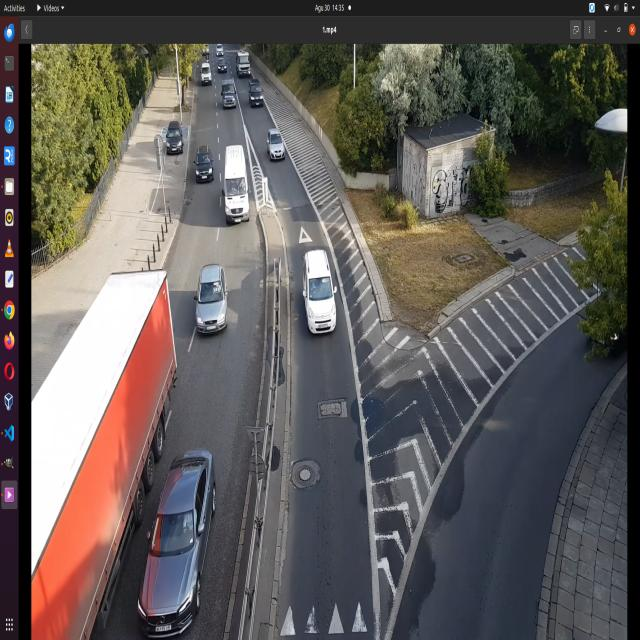person_with_seatbelt: (212, 280, 221, 301)
person_without_seatbelt: (178, 502, 200, 536)
